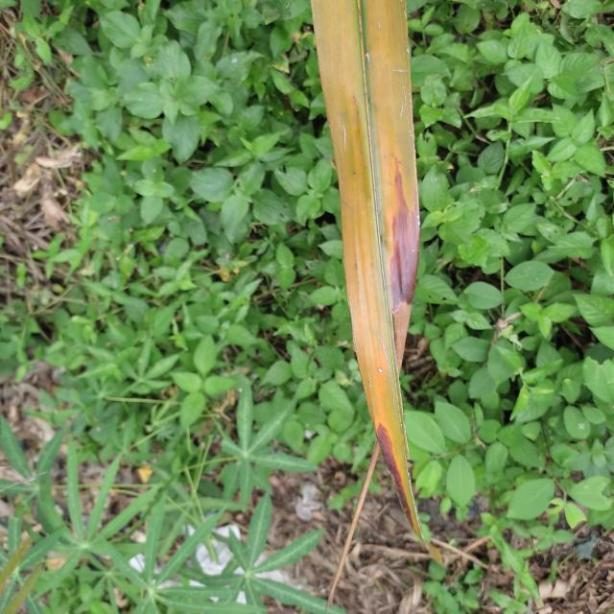Megnesium: (307, 0, 451, 581)
